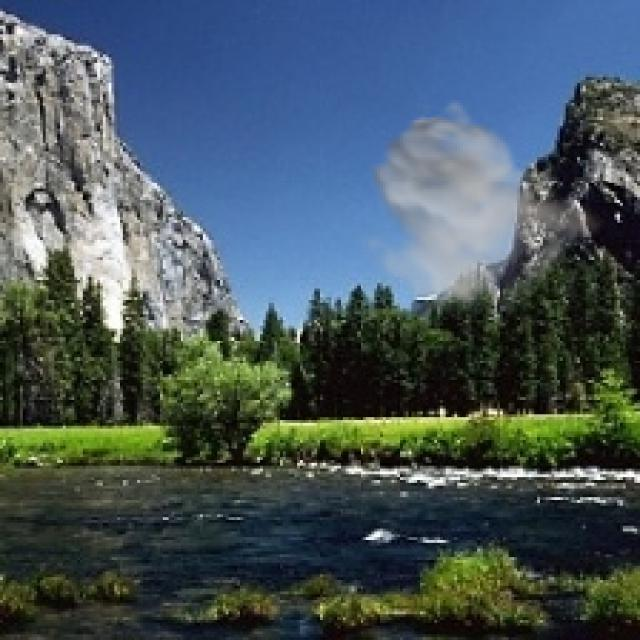smoke: (348, 97, 608, 317)
